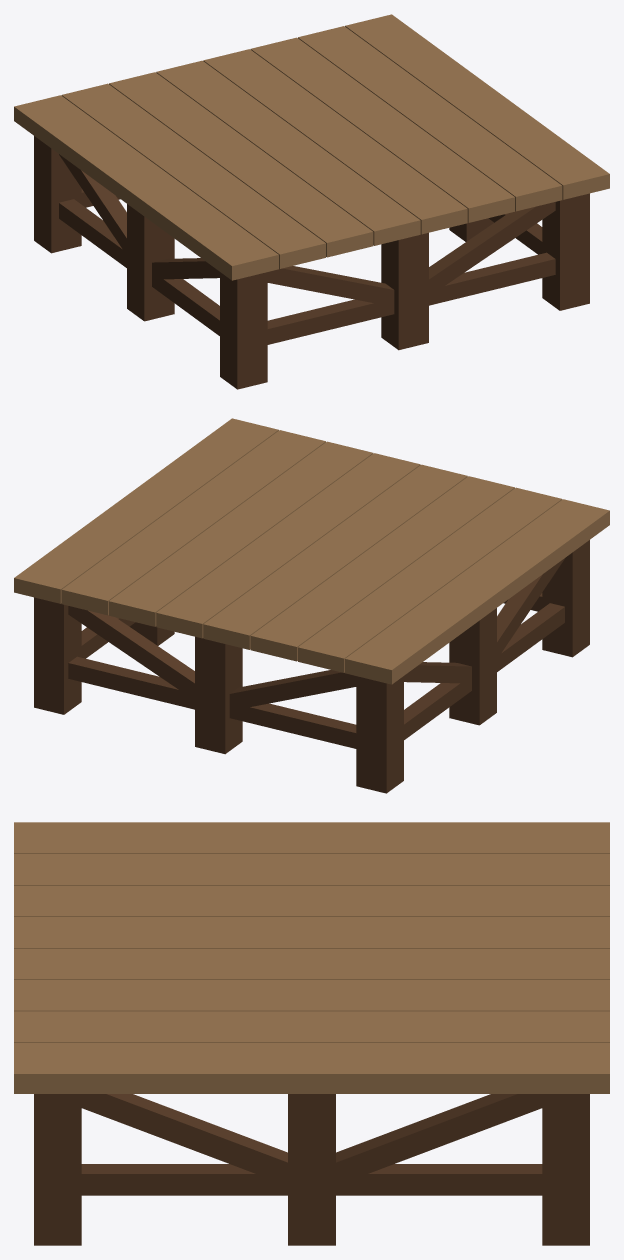
Rendered from foundation.glb.
3 renders of one model, top to bottom at view 1: azimuth 30°, elevation 25°; view 2: azimuth 150°, elevation 25°; view 3: azimuth 270°, elevation 25°, orthographic. The views are drawn at different scales.
Parts seen in each view (by area): view 1: foundation_mesh; view 2: foundation_mesh; view 3: foundation_mesh.
Part boxes in pixels (x1,y1,x2,y2): foundation_mesh: [14, 14, 609, 389]; foundation_mesh: [14, 418, 609, 793]; foundation_mesh: [14, 822, 609, 1245].
Bounding box in the file's own units: 3 × 1 × 3.
